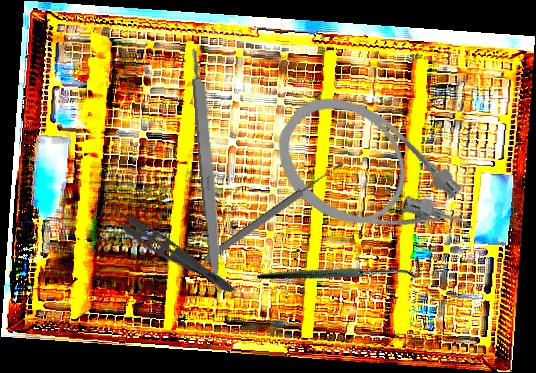Cannula: (256, 74, 495, 289)
Hook Surgical: (255, 196, 428, 342)
Scalpel Handle: (189, 47, 226, 283)
Surgical Spoon: (202, 159, 346, 265)
Tissue Forceps: (99, 197, 242, 298)
